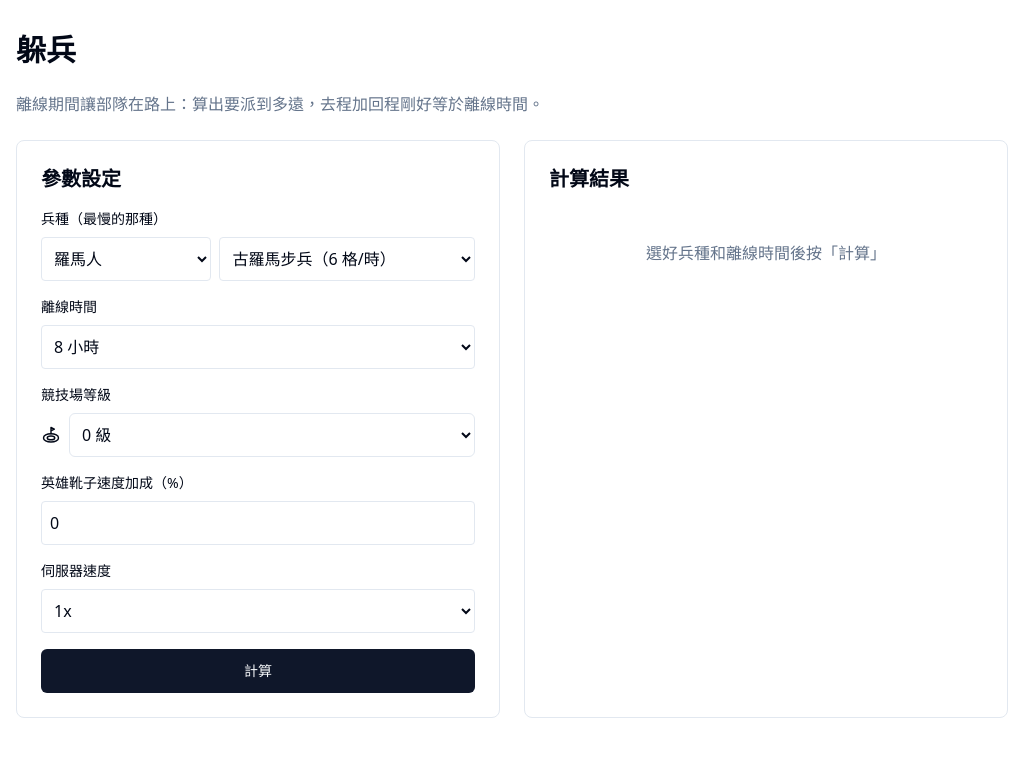
行軍速度灰標：攔截、OP 規劃、反推 TS、躲兵（P0-21） › save troops: one chip beside the 「計算結果」 section title, none in the sentence or beside the big distance
Select "5 級" in the dropdown labelled "競技場等級": (272, 435) left=69, top=413, right=475, bottom=457
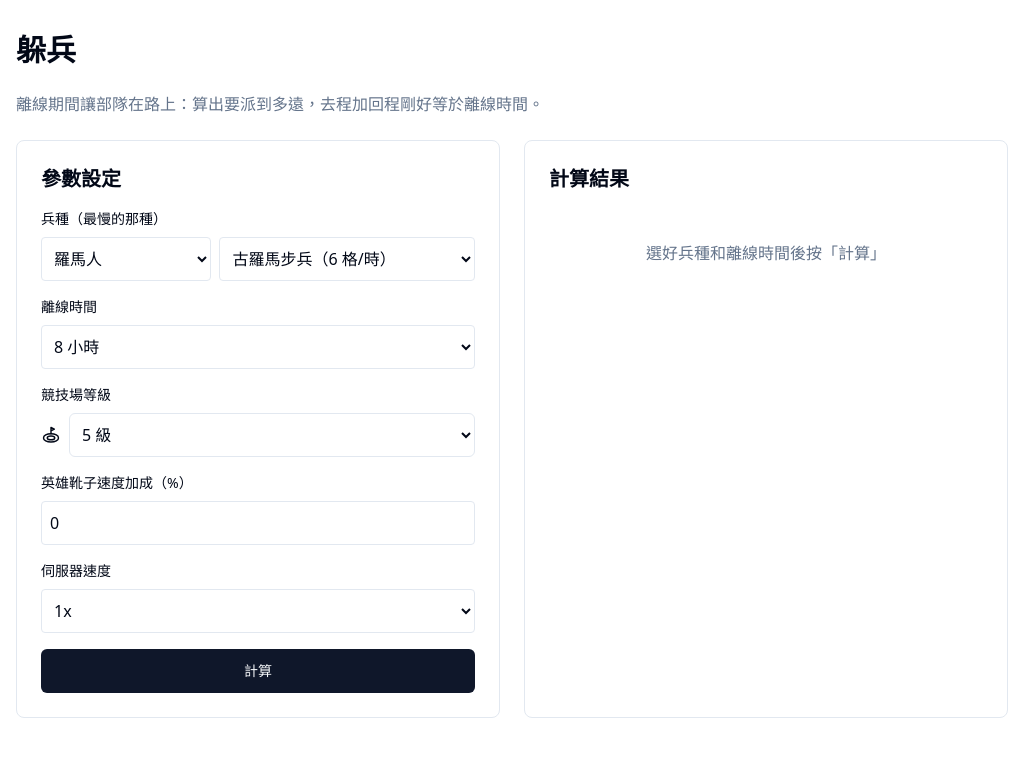
Replace the text in the number field with test id "save-boots" with "25": (258, 523) left=41, top=501, right=475, bottom=545
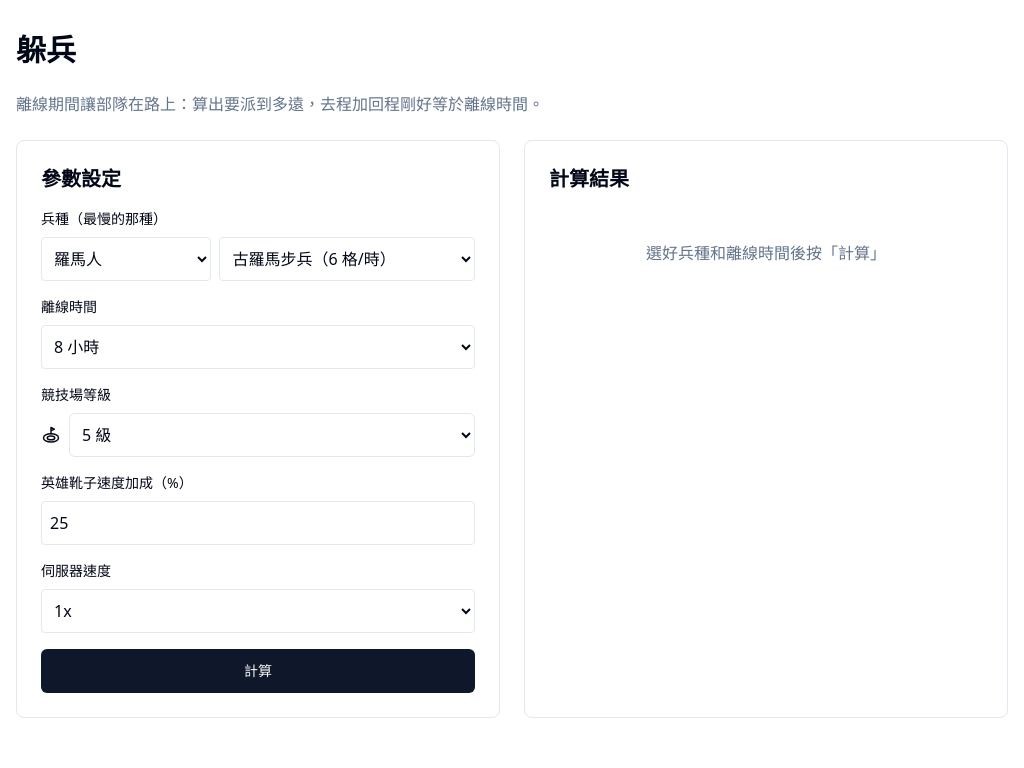
Click the button "計算": (258, 671) left=41, top=649, right=475, bottom=693
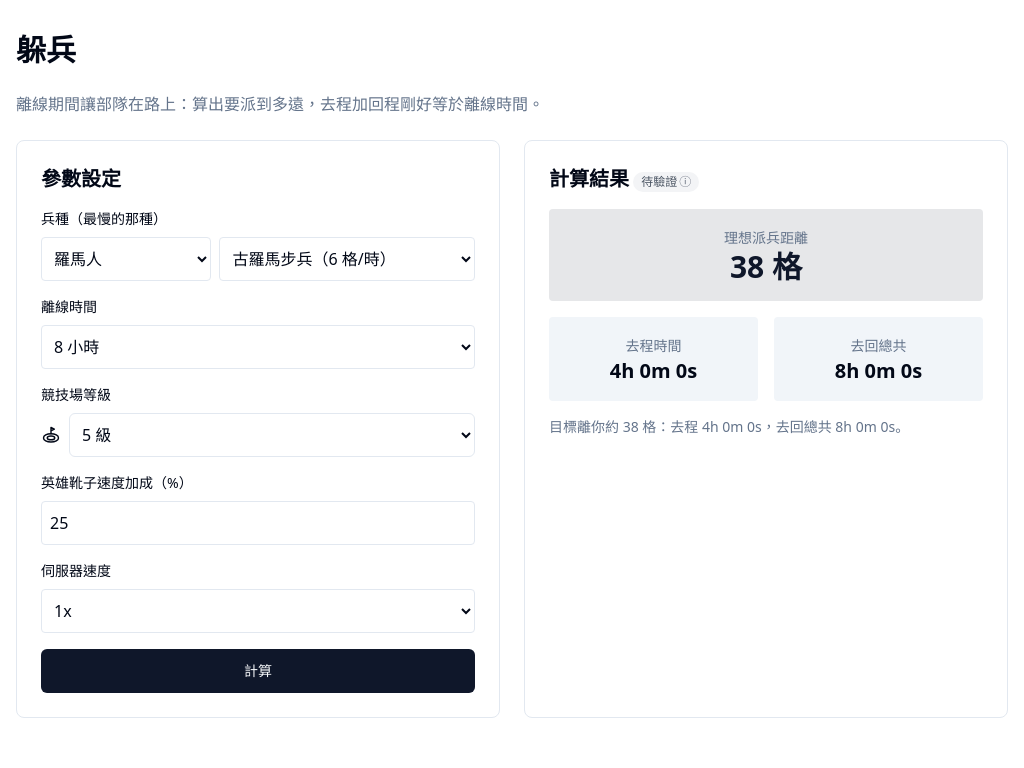
Check: the element with test id "save-result-title" shows "計算結果", box left=549, top=165, right=629, bottom=192
Check: the number of buttons with test id "pending-verify-chip" is 1, box left=633, top=172, right=699, bottom=192
